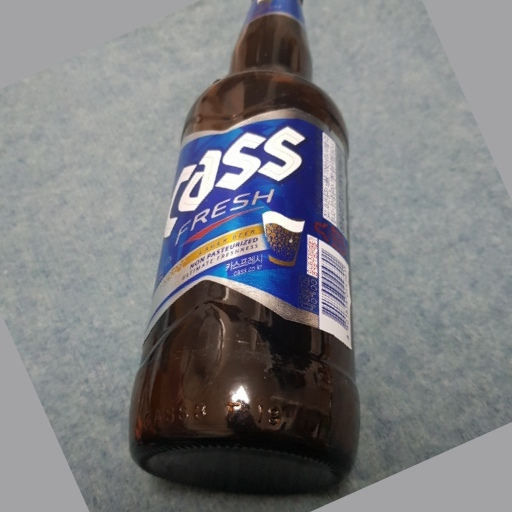Glass_1: (123, 1, 363, 498)
